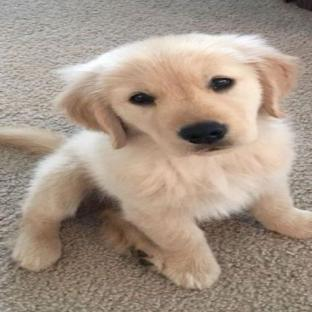Animal: (0, 33, 311, 289)
